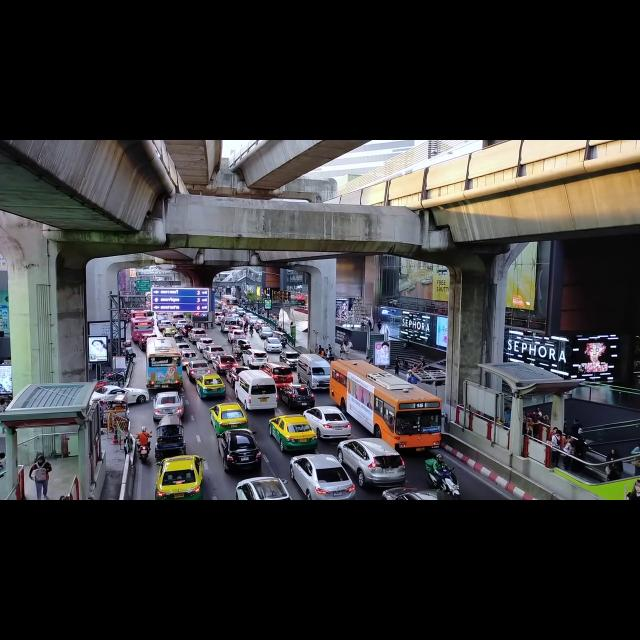bus: (330, 360, 441, 451), (146, 337, 182, 388), (130, 317, 153, 343), (221, 295, 238, 308), (130, 310, 147, 318)
car: (337, 438, 405, 486), (290, 454, 355, 499), (156, 455, 205, 499), (217, 429, 261, 471), (269, 414, 317, 451), (303, 406, 351, 438), (210, 402, 248, 435), (236, 477, 291, 499), (91, 385, 149, 403), (152, 391, 184, 420), (280, 384, 314, 408), (382, 487, 442, 499), (196, 374, 225, 398), (186, 360, 212, 382), (226, 366, 250, 388), (242, 349, 267, 368), (212, 354, 237, 373), (202, 345, 225, 362), (279, 351, 299, 368), (188, 328, 208, 344), (139, 333, 156, 351), (181, 349, 196, 369), (264, 337, 282, 352), (231, 340, 251, 353), (196, 337, 213, 352), (228, 329, 245, 342), (258, 326, 274, 338), (181, 324, 193, 336), (163, 326, 177, 336), (157, 320, 171, 330), (173, 331, 184, 343), (174, 319, 188, 328), (246, 315, 259, 324), (177, 342, 190, 350), (214, 315, 224, 325), (243, 313, 253, 323), (156, 316, 167, 325), (229, 325, 243, 331), (236, 308, 245, 316)
